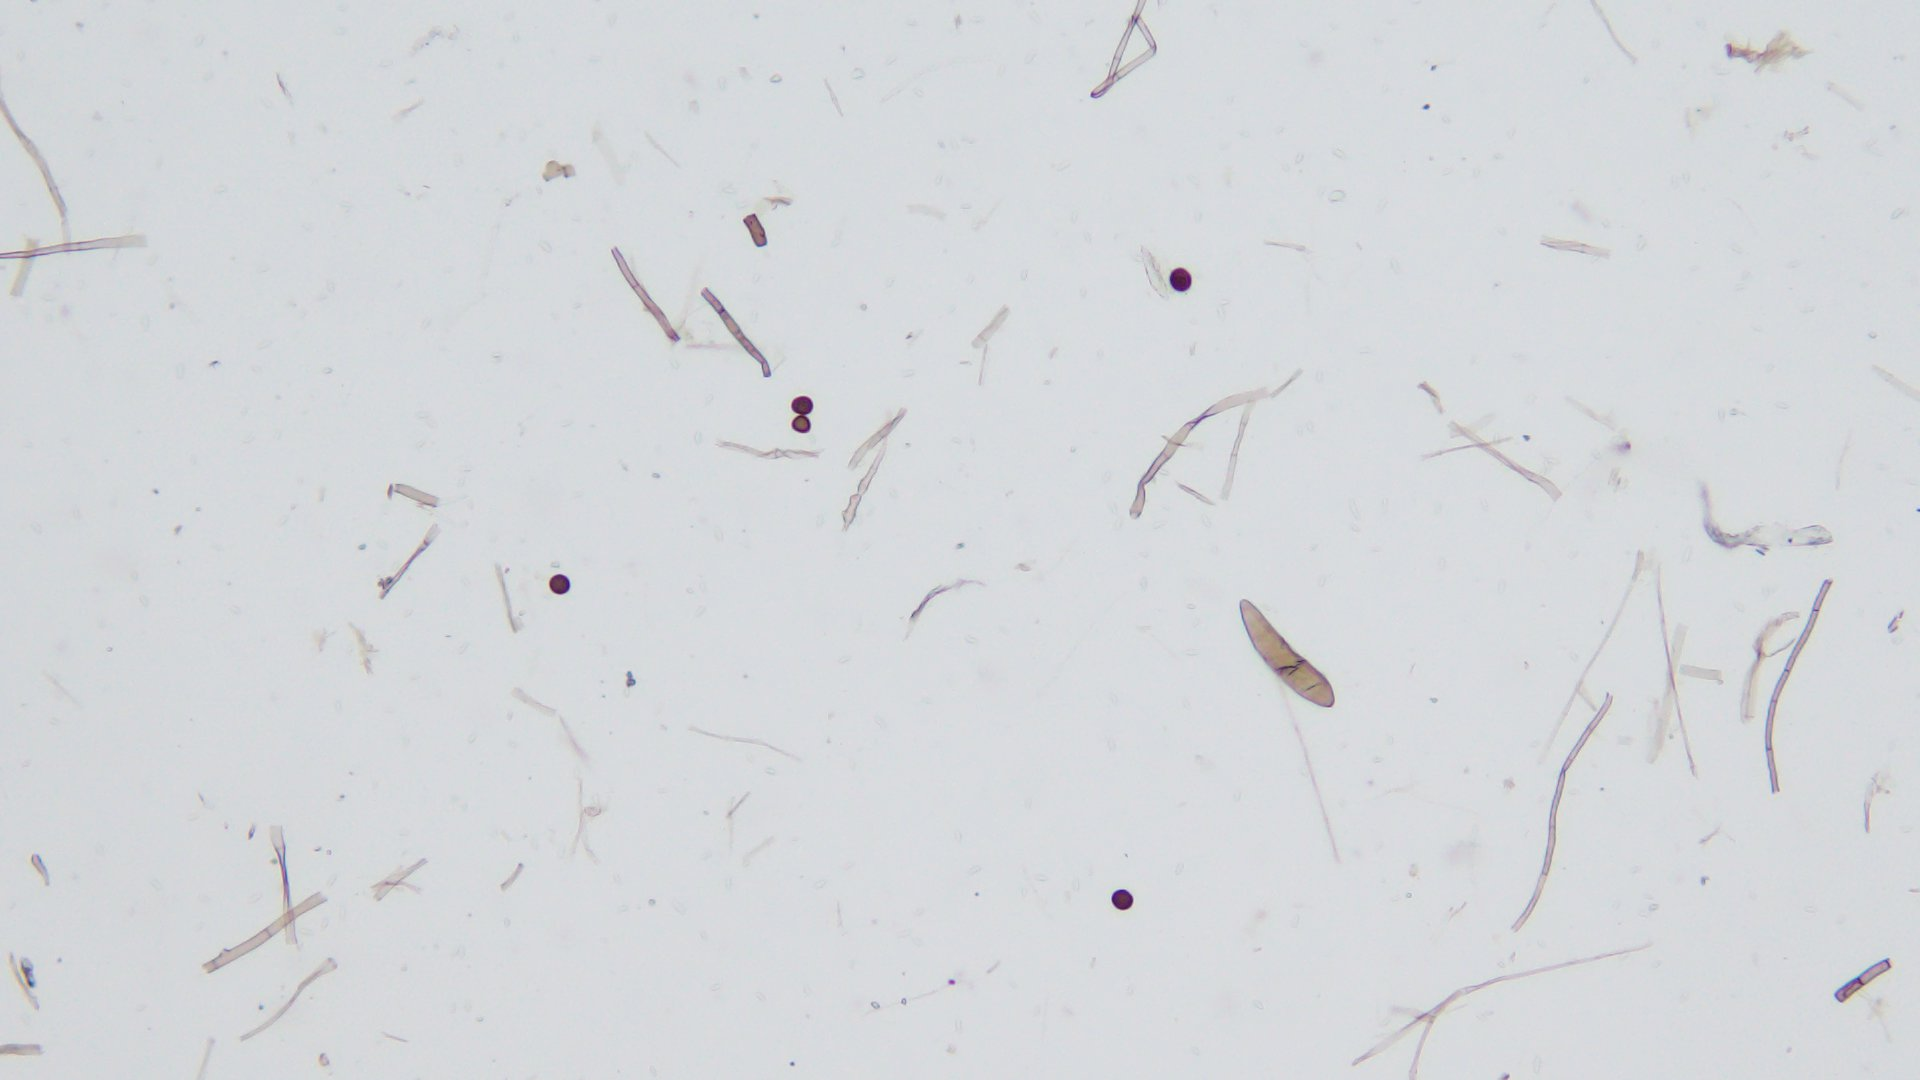dbb_spore: (1238, 597, 1336, 709)
shs_spore: (1168, 266, 1193, 291), (1110, 887, 1134, 911), (549, 575, 572, 596), (790, 396, 814, 415), (791, 415, 814, 434)
